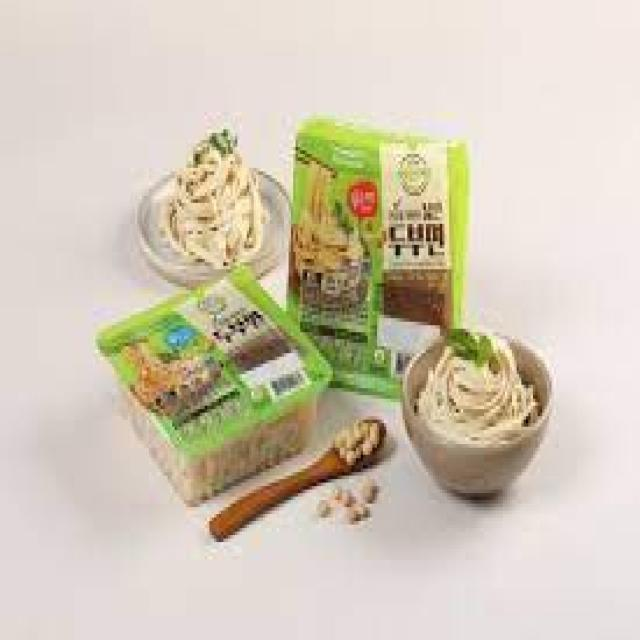tofu: (114, 269, 328, 509)
